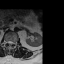CCS_normal: (9, 38, 11, 48)
LFS_normal: (13, 39, 15, 46)
LLS_normal: (11, 39, 13, 46)
RFS_normal: (5, 38, 7, 45)
RLS_normal: (7, 38, 9, 45)
